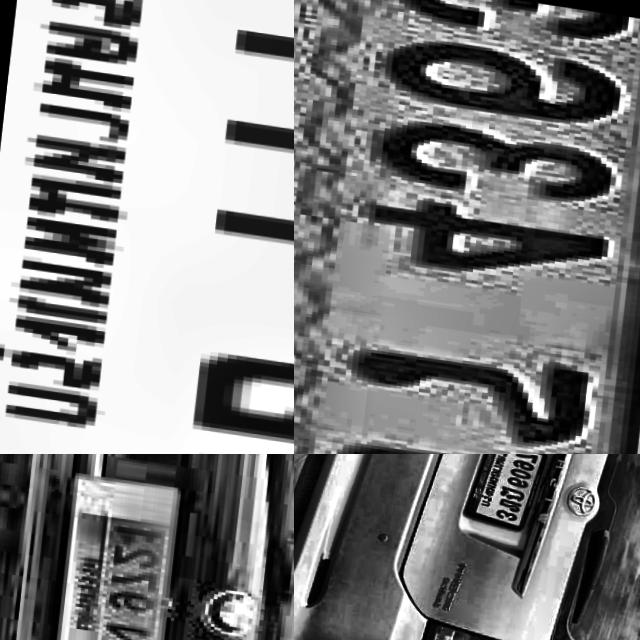license-plate: (294, 0, 640, 454), (0, 0, 294, 454), (47, 463, 181, 640), (458, 454, 549, 533)
